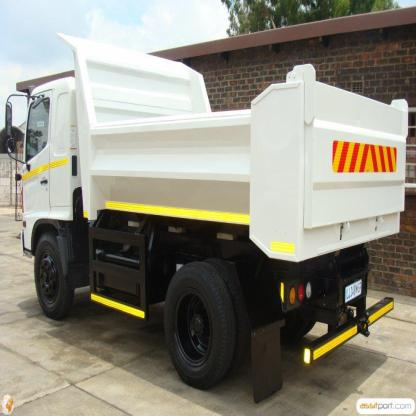dump_truck: (3, 23, 406, 391)
